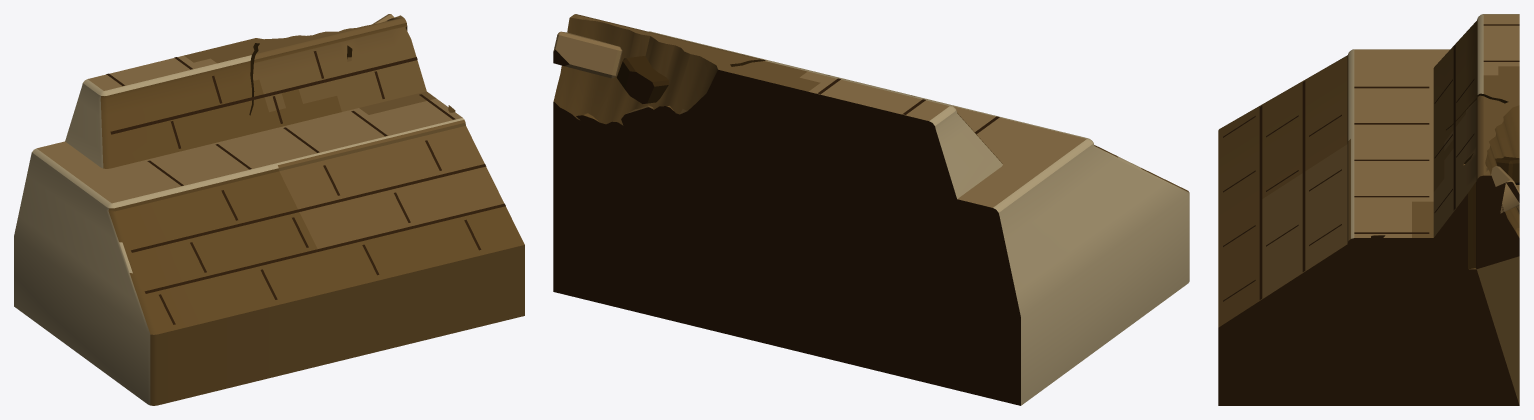
The model's file is pyramid_191_wreck.glb.
3 renders of one model, left to right at view 1: azimuth 30°, elevation 25°; view 2: azimuth 150°, elevation 25°; view 3: azimuth 270°, elevation 25°, orthographic. The views are drawn at different scales.
Visible parts, largest first — view 1: level0.001, masonry0.001, masonry1.001; view 2: level0.001, heap29.001, heap21.001, heap20.001, heap6.001; view 3: level0.001, masonry0.001, heap29.001, masonry1.001, heap21.001.
Part boxes in pixels (x1,y1,x2,y2): level0.001: (14, 15, 524, 405); masonry0.001: (131, 140, 505, 324); masonry1.001: (110, 51, 417, 148); level0.001: (553, 14, 1189, 405); heap29.001: (553, 31, 622, 78); heap21.001: (616, 56, 668, 103); heap20.001: (621, 105, 663, 142); heap6.001: (688, 108, 722, 135); level0.001: (1218, 14, 1519, 405); masonry0.001: (1223, 81, 1341, 301); heap29.001: (1487, 166, 1519, 213); masonry1.001: (1434, 44, 1474, 212); heap21.001: (1495, 156, 1519, 184).
Size of the model in its own units: 22 by 11.82 by 14.
